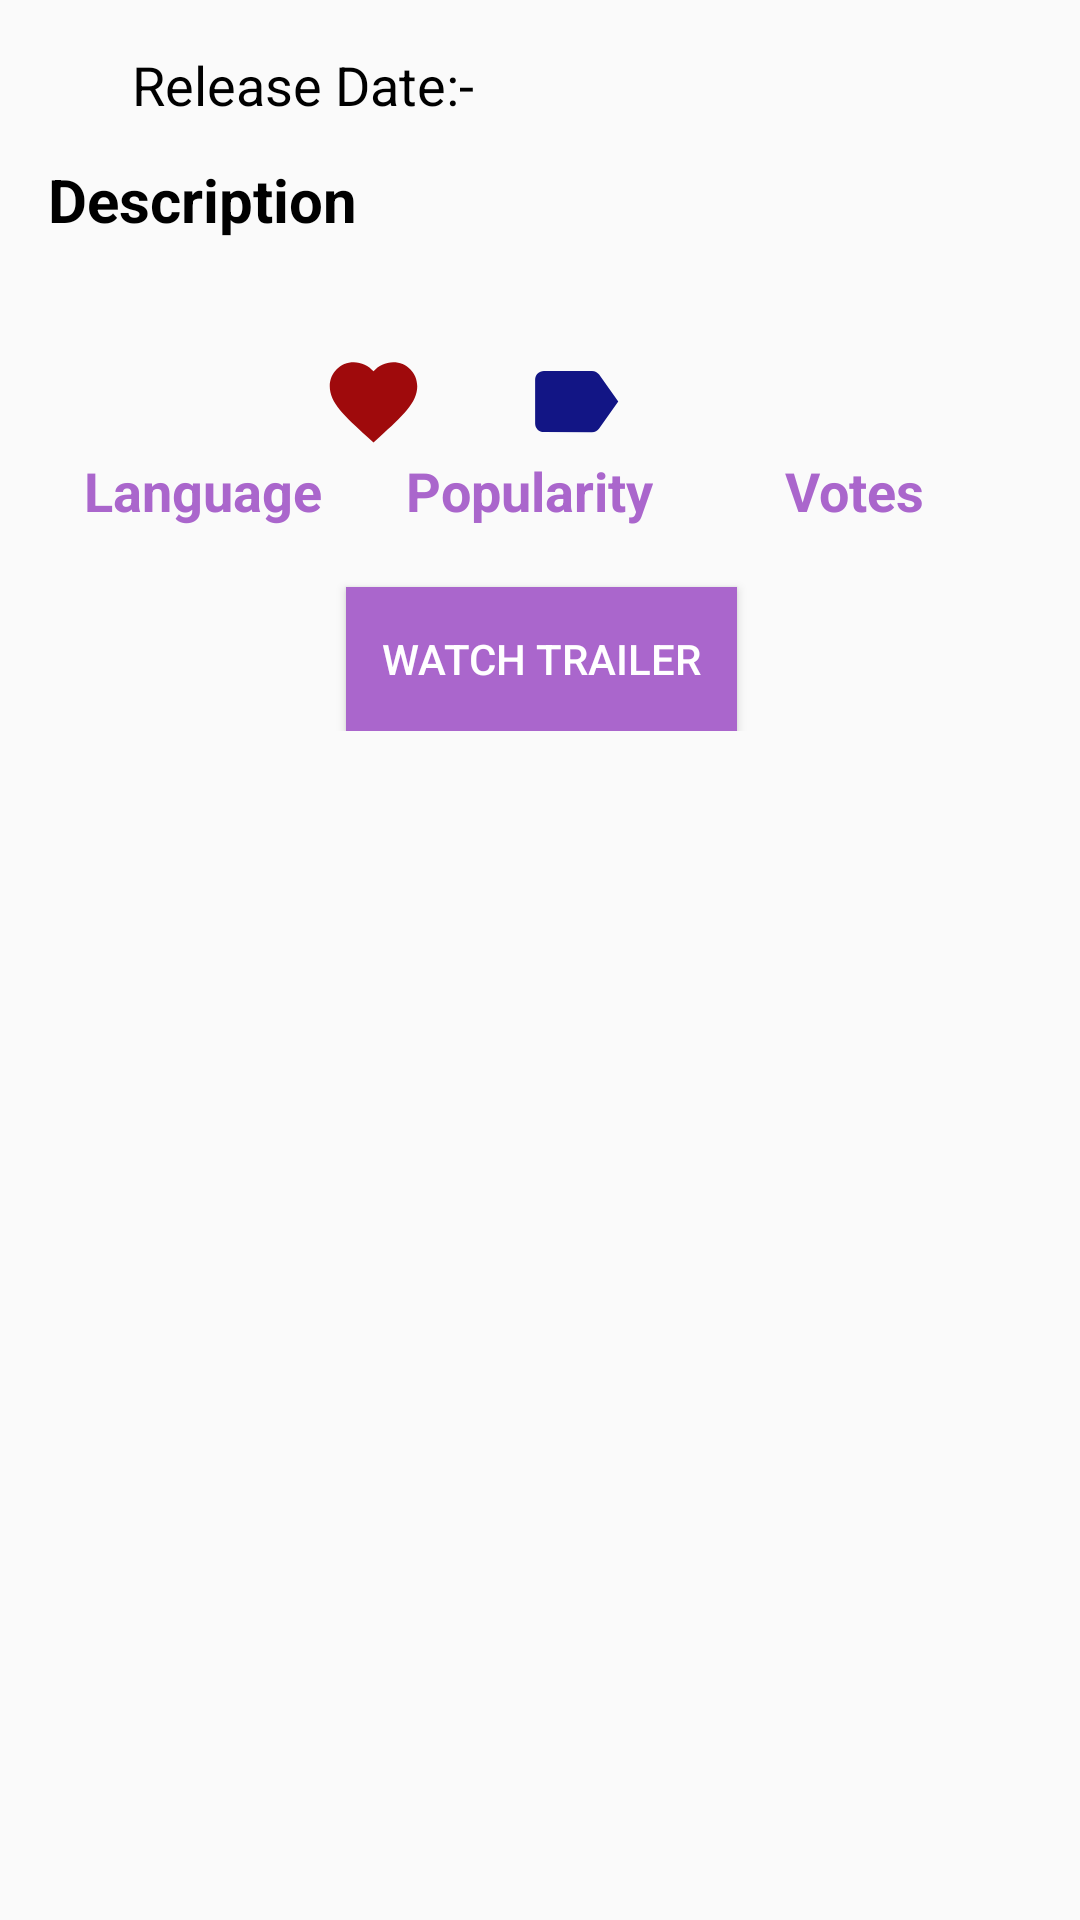

Icons on this 1080w x 1920h Android screen, each with the point to tap as (x=x, y=y):
favorite: (x=373, y=402)
label: (x=576, y=402)
